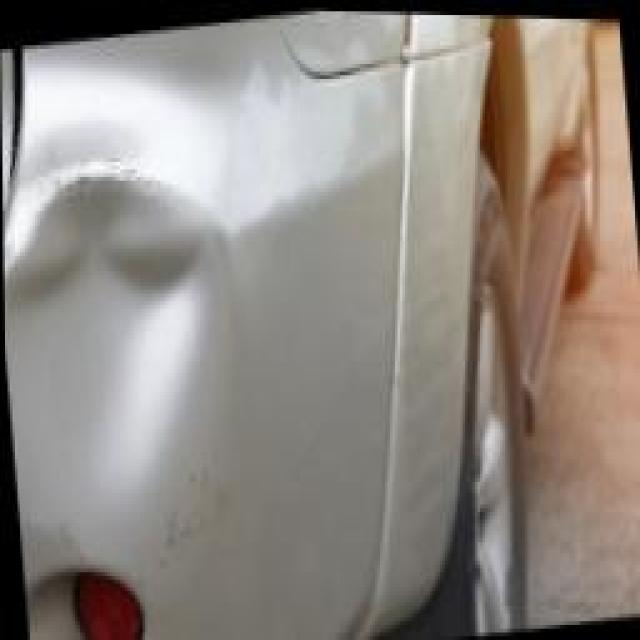Bumper: (0, 90, 258, 564)
